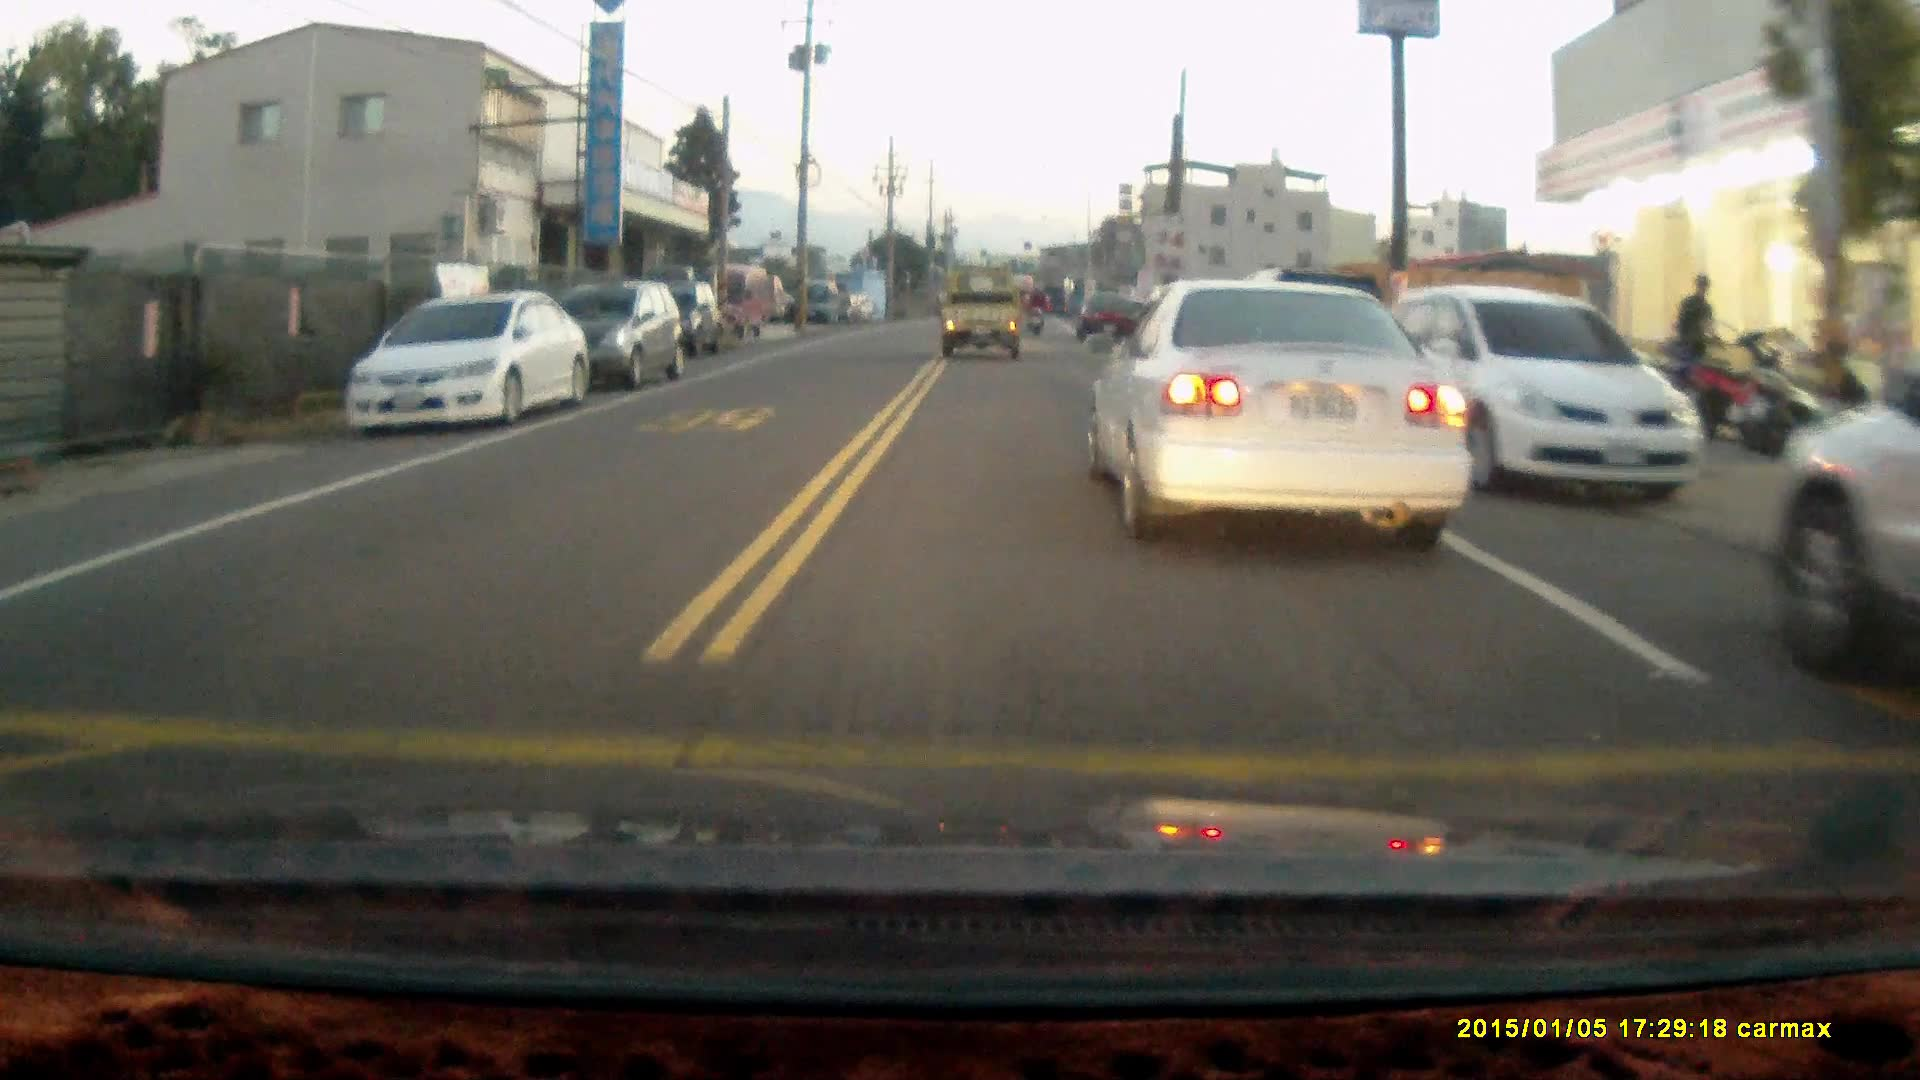pedestrian: (1674, 272, 1721, 386)
rider: (1022, 285, 1048, 333)
vehicle: (1092, 283, 1462, 549), (1378, 291, 1711, 510), (1760, 372, 1920, 714), (344, 293, 592, 440), (527, 287, 687, 400), (624, 281, 730, 363), (943, 272, 1030, 370), (698, 266, 775, 344), (1077, 290, 1138, 343)
